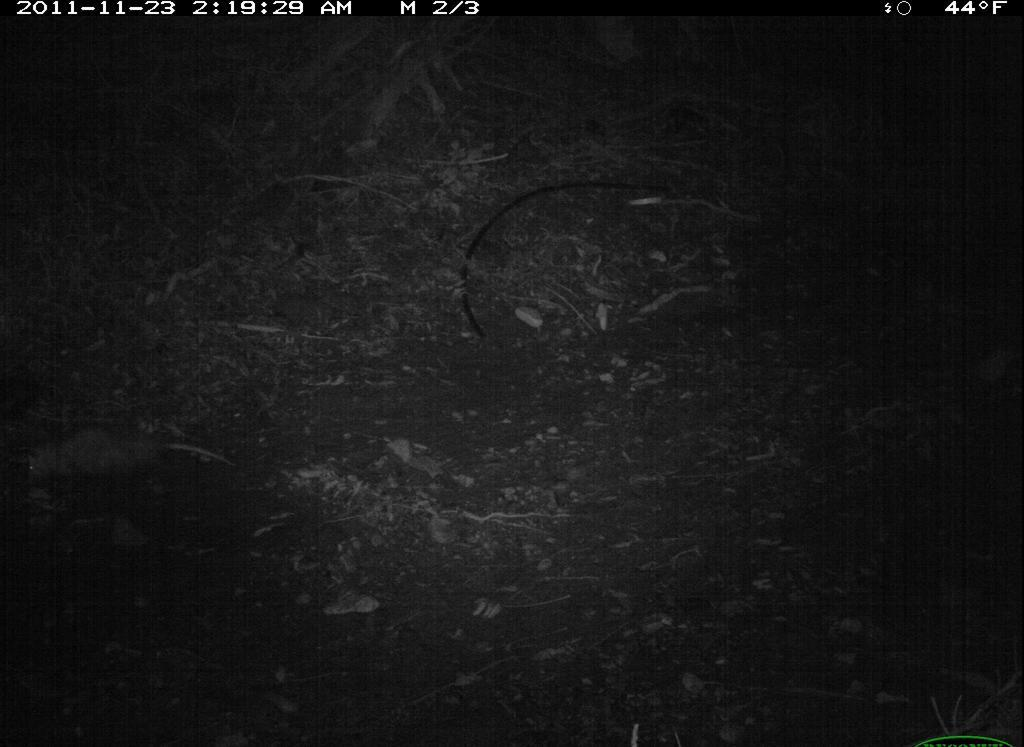opossum: (20, 417, 242, 510)
